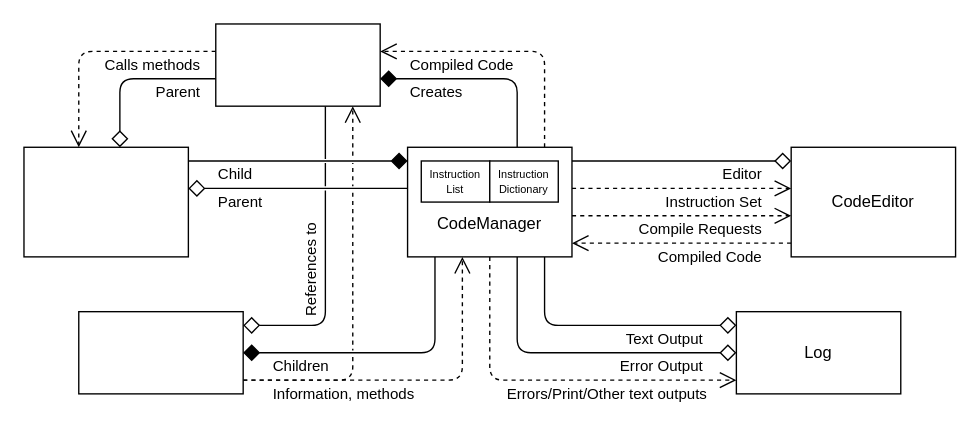
Some shapes in this 980 by 426 pixel diagram are drawn without their labels. The shapes that lost their labels are listed below. From the top down, each one's centre as x and y in pixels, then its label:
At pixel 297 64: "CatThread".
At pixel 105 201: "PlayerCat".
At pixel 160 352: "LogicBlocks (Functions, Variables, Blocks, etc.)".
